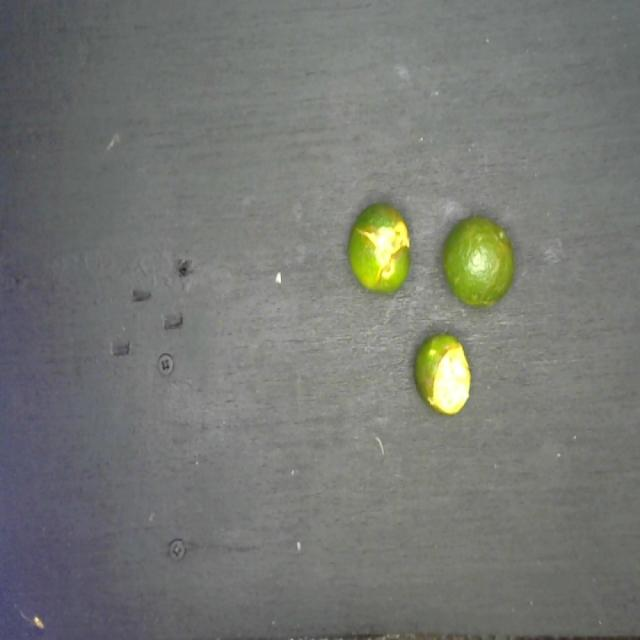biodegradable: (342, 192, 518, 422)
